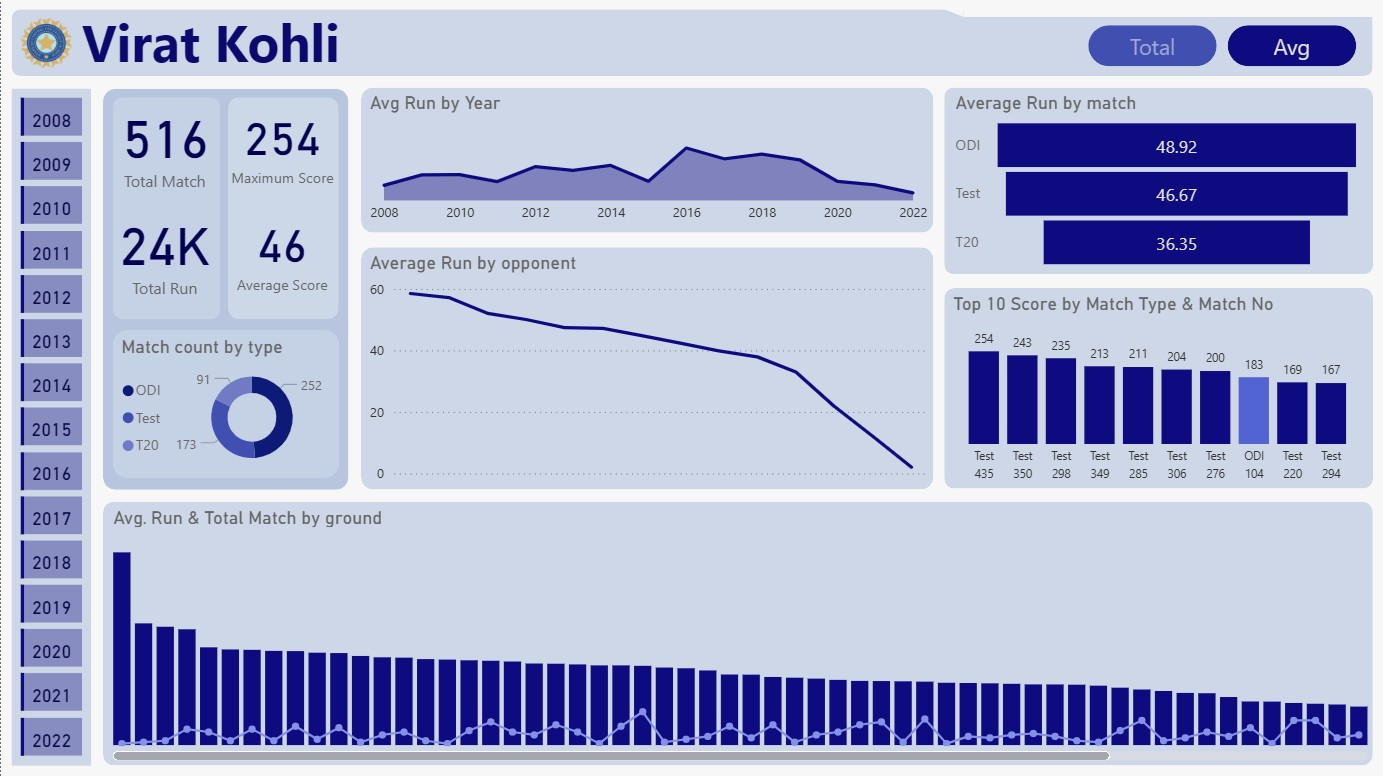

The page's visual inventory and layout, read from the dashboard file:
{"tool":"powerbi","page":{"name":"Page 1","canvas":[1280,720],"ordinal":2},"visuals":[{"type":"shape","box":[0,0,1280.5,720],"z":0},{"type":"shape","box":[332.9,228.6,530,224.3],"z":1000},{"type":"shape","box":[332.9,81.4,530,134.3],"z":2000},{"type":"shape","box":[10,8.6,1260,61.4],"z":3000},{"type":"shape","box":[94.3,464.3,1175.7,244.3],"z":4000},{"type":"shape","box":[94.6,81.9,227.3,371.3],"z":6000},{"type":"shape","box":[102.9,305.7,210,137.1],"z":7000},{"type":"shape","box":[102.9,90,100,205.7],"z":8000},{"type":"card","fields":{"Values":["final.SUM OF RUN"]},"box":[94.3,185.7,114.3,92.9],"z":10000},{"type":"donutChart","title":"Match count by type","fields":{"Category":["final (1).match"],"Y":["CountNonNull(final.Match_No)"]},"box":[107.1,311.4,205.7,131.4],"z":10500},{"type":"card","title":"fff","fields":{"Values":["final.Total Match"]},"box":[94.3,81.4,114.3,104.3],"z":11000},{"type":"shape","box":[9.9,81.9,73.4,626.8],"z":12000},{"type":"shape","box":[210,90,102.9,205.7],"z":13000},{"type":"advancedSlicerVisual","fields":{"Values":["final (1).date.Variation.Date Hierarchy.Year"]},"box":[12.9,85.7,67.1,622.9],"z":14000},{"type":"shape","box":[872.9,81.4,397.1,172.9],"z":15000},{"type":"shape","box":[872.9,267.1,397.1,185.7],"z":18000},{"type":"columnChart","title":"Top 10 Score by Match Type & Match No","fields":{"Category":["final.Match_No","final.top 150 runs"],"Y":["Sum(final.runs)"],"Series":["final.top 150 runs"]},"box":[877.1,271.4,388.6,189],"z":19000},{"type":"card","title":"fff","fields":{"Values":["final.Minimum Score"]},"box":[195.7,81.4,130,104.3],"z":21000},{"type":"card","title":"fff","fields":{"Values":["final.Avg Run"]},"box":[195.7,180,130,104.3],"z":22000},{"type":"textbox","box":[70,1.4,582.9,80],"z":23000},{"type":"lineClusteredColumnComboChart","title":"Avg. Run & Total Match by ground","fields":{"Category":["final (1).ground"],"Y":["final.Avg Run"],"Y2":["final.Total Match"]},"box":[98.6,468.6,1171.4,240],"z":25000},{"type":"areaChart","title":"Avg Run by Year","fields":{"Category":["final.date.Variation.Date Hierarchy.Year"],"Y":["final.Avg Run"]},"box":[337.1,85.7,525.7,130],"z":26000},{"type":"lineChart","title":"Average Run  by opponent","fields":{"Category":["final (1).opponent"],"Y":["Avg(final.runs)"]},"box":[337.1,232.9,525.7,220],"z":27000},{"type":"funnel","title":"Average Run by match","fields":{"Category":["final (1).match"],"Y":["final.Avg Run"]},"box":[878.6,85.7,385.7,168.6],"z":28000},{"type":"image","box":[12.9,8.6,57.1,61.4],"z":30000},{"type":"shape","box":[851.4,0,40,15.7],"z":31000},{"type":"shape","box":[891.4,0,378.6,15.7],"z":32000},{"type":"bookmarkNavigator","box":[1007.1,22.9,248.6,38.6],"z":37000}]}

Visuals, with their boxes in screenshot pixels (x1, y1, x2, y2), scaled from the page's 1280x720 canvas onto the 1383x776 screenshot:
shape: bbox(0, 0, 1382, 775)
shape: bbox(360, 246, 932, 488)
shape: bbox(360, 88, 932, 232)
shape: bbox(11, 9, 1372, 75)
shape: bbox(102, 500, 1372, 764)
shape: bbox(102, 88, 348, 488)
shape: bbox(111, 329, 338, 477)
shape: bbox(111, 97, 219, 319)
card - final.SUM OF RUN: bbox(102, 200, 225, 300)
"Match count by type" donutChart: bbox(116, 336, 338, 477)
"fff" card: bbox(102, 88, 225, 200)
shape: bbox(11, 88, 90, 764)
shape: bbox(227, 97, 338, 319)
advancedSlicerVisual - final (1).date.Variation.Date Hierarchy.Year: bbox(14, 92, 86, 764)
shape: bbox(943, 88, 1372, 274)
shape: bbox(943, 288, 1372, 488)
"Top 10 Score by Match Type & Match No" columnChart: bbox(948, 293, 1368, 496)
"fff" card: bbox(211, 88, 352, 200)
"fff" card: bbox(211, 194, 352, 306)
textbox: bbox(76, 2, 705, 88)
"Avg. Run & Total Match by ground" lineClusteredColumnComboChart: bbox(107, 505, 1372, 764)
"Avg Run by Year" areaChart: bbox(364, 92, 932, 232)
"Average Run  by opponent" lineChart: bbox(364, 251, 932, 488)
"Average Run by match" funnel: bbox(949, 92, 1366, 274)
image: bbox(14, 9, 76, 75)
shape: bbox(920, 0, 963, 17)
shape: bbox(963, 0, 1372, 17)
bookmarkNavigator: bbox(1088, 25, 1357, 66)
